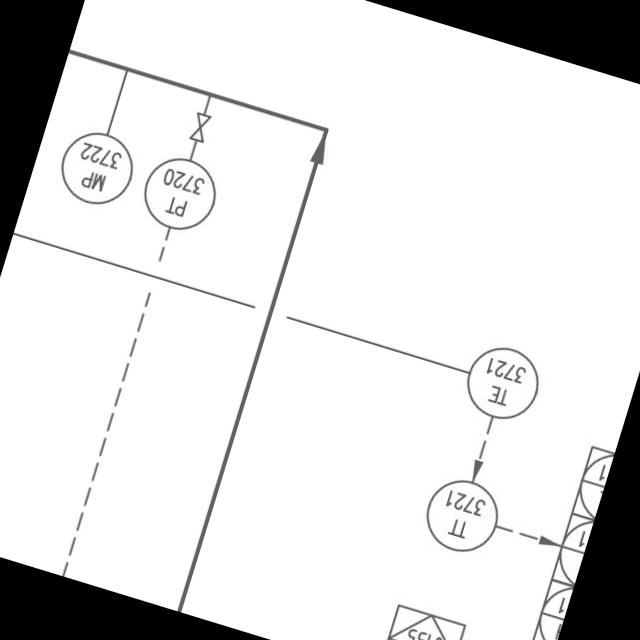GV: (181, 105, 216, 150)
